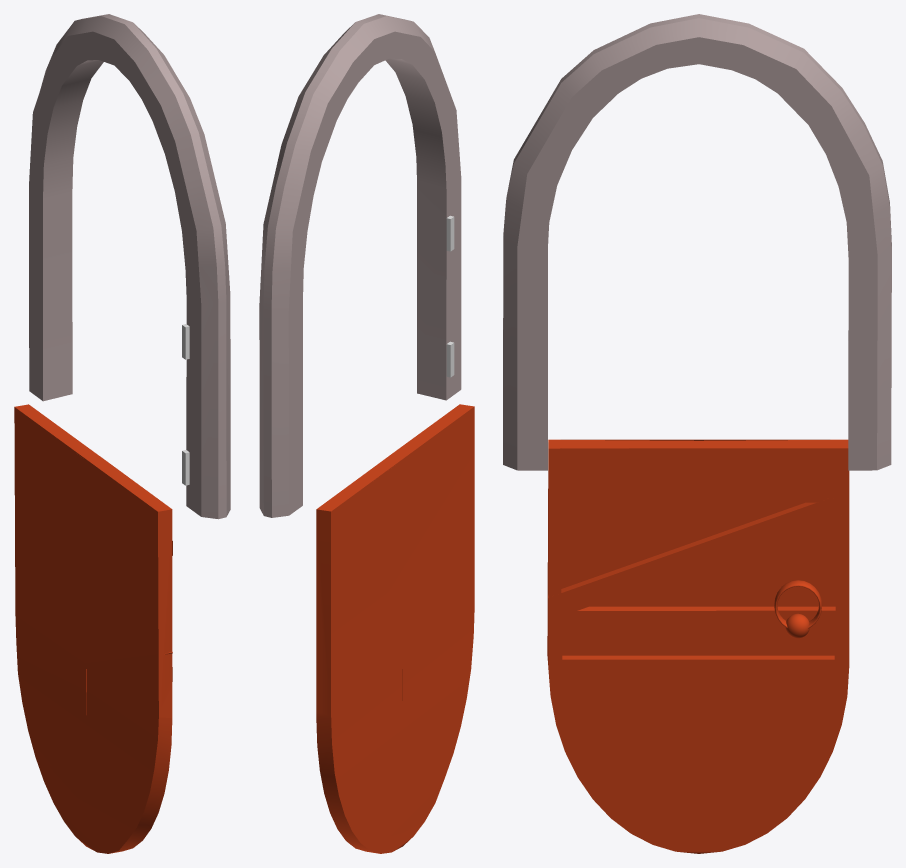
The picture shows the model from 3 angles, left to right: view 1: azimuth 30°, elevation 25°; view 2: azimuth 150°, elevation 25°; view 3: azimuth 270°, elevation 25°; orthographic projection. The views are drawn at different scales.
Visible parts, largest first — view 1: Box002, Line001; view 2: Box002, Line001; view 3: Box002, Line001.
Part boxes in pixels (bbox=[...]): Box002: bbox=[14, 404, 172, 853]; Line001: bbox=[29, 14, 230, 519]; Box002: bbox=[316, 404, 474, 853]; Line001: bbox=[259, 14, 461, 517]; Box002: bbox=[547, 439, 849, 853]; Line001: bbox=[503, 14, 891, 470].
Size of the model in its own units: 9.33 by 125 by 51.82.
